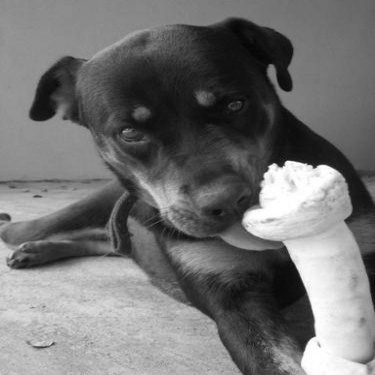dog: (4, 13, 370, 371)
